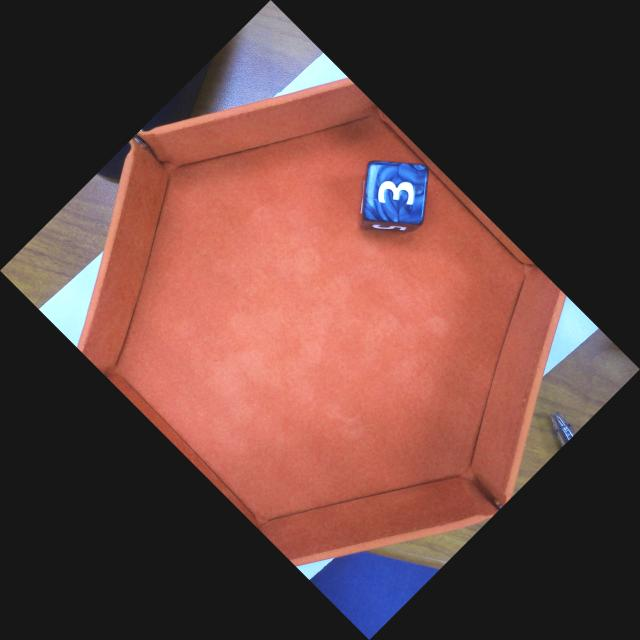dice: (360, 160, 430, 227)
